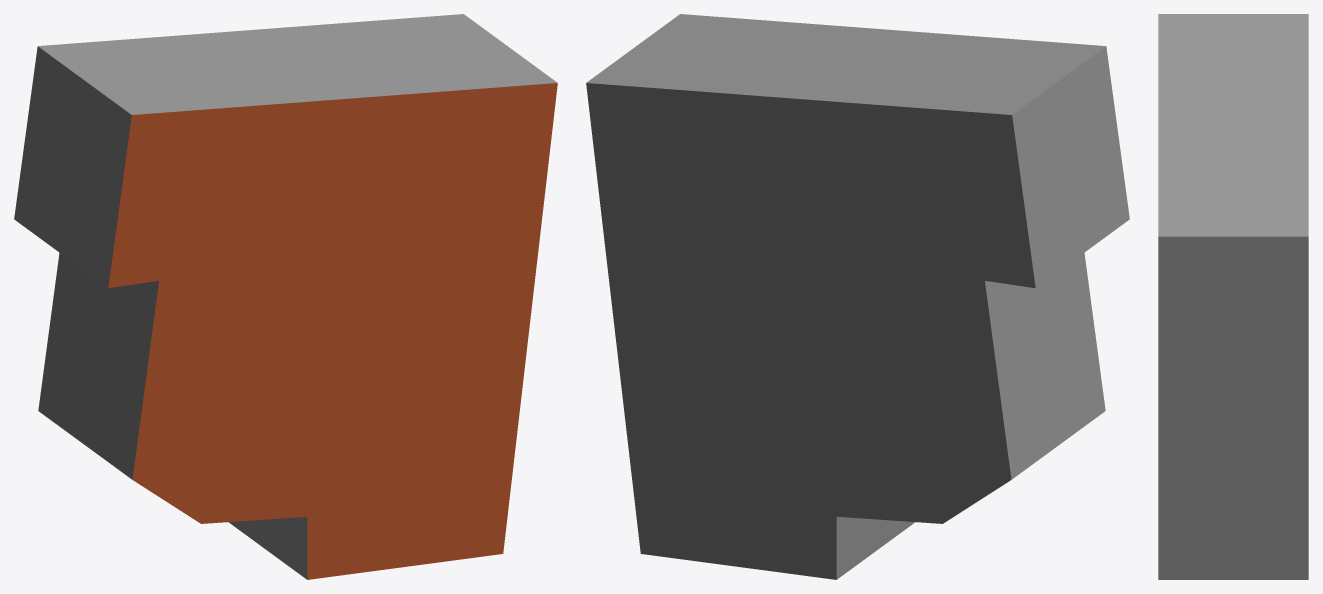
File: construction_6683_assumed_A_Casa_h6m.obj
3 views of the same model, side by side, from view 1: azimuth 30°, elevation 25°; view 2: azimuth 150°, elevation 25°; view 3: azimuth 270°, elevation 25° (orthographic). The views are drawn at different scales.
Parts seen in each view (by area): view 1: construction_6683_assumed_A_Casa; view 2: construction_6683_assumed_A_Casa; view 3: construction_6683_assumed_A_Casa.
Boxes of the visible parts, box(x1,y1,x2,y2) form: construction_6683_assumed_A_Casa: box(14, 14, 557, 579); construction_6683_assumed_A_Casa: box(586, 14, 1129, 579); construction_6683_assumed_A_Casa: box(1158, 14, 1308, 579).
Bounding box in the file's own units: 16.53 × 18.61 × 6.
